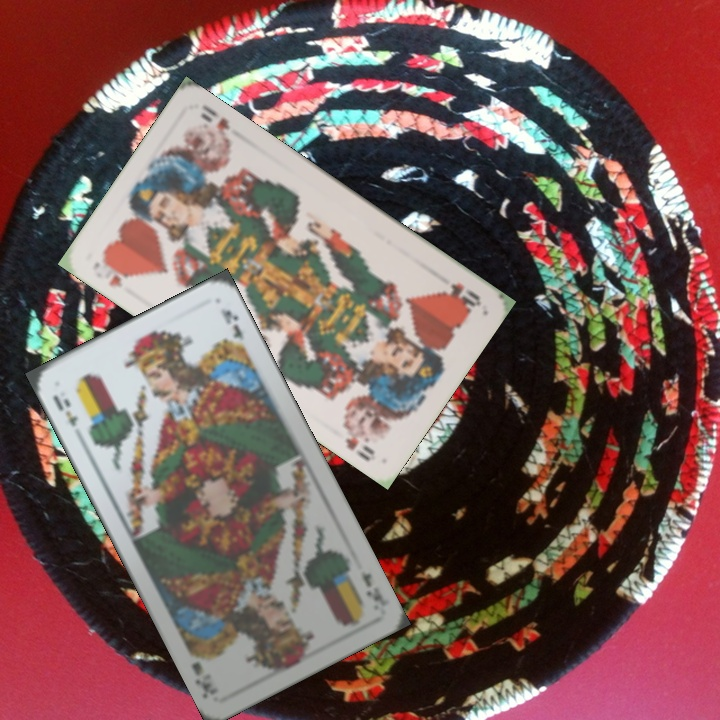EK: (356, 568, 391, 609), (48, 390, 81, 429)
HO: (439, 278, 484, 310), (98, 254, 135, 290)
